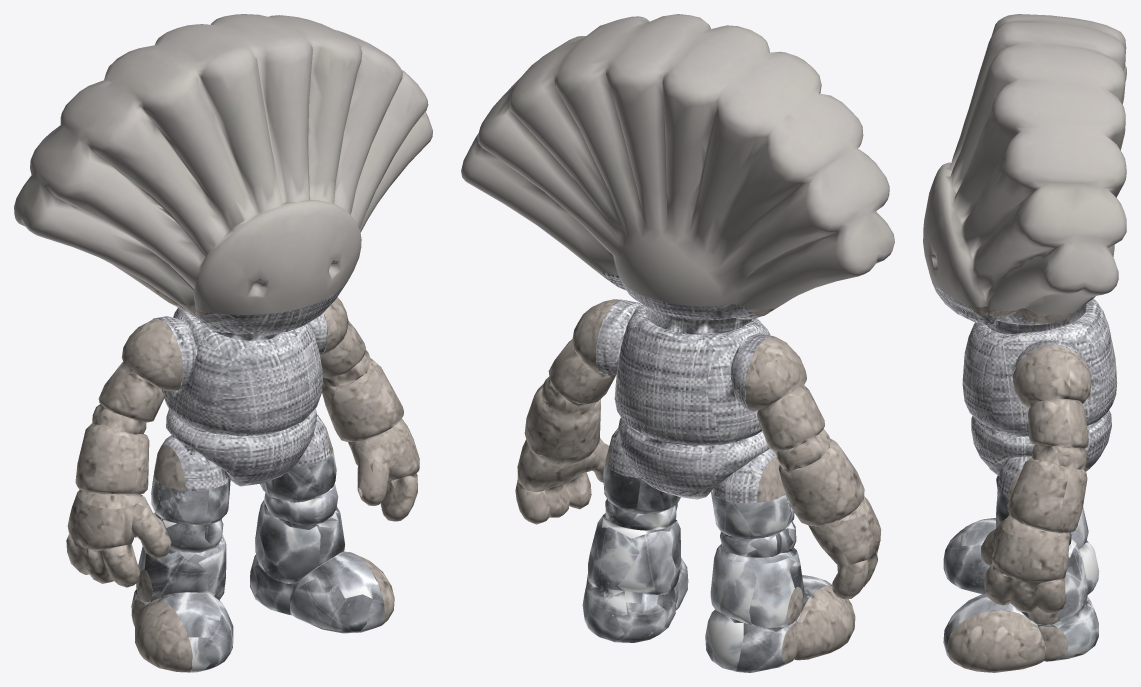
The model's file is 13-fan-split--stylized_toy_3d_model.glb.
3 renders of one model, left to right at view 1: azimuth 30°, elevation 25°; view 2: azimuth 150°, elevation 25°; view 3: azimuth 270°, elevation 25°, orthographic. The views are drawn at different scales.
Visible parts, largest first — view 1: head_mesh, arms_mesh, feet_mesh, body_mesh; view 2: head_mesh, arms_mesh, body_mesh, feet_mesh; view 3: head_mesh, arms_mesh, body_mesh, feet_mesh.
Part boxes in pixels (x1,y1,x2,y2): head_mesh: (14, 14, 432, 314); arms_mesh: (66, 285, 419, 672); feet_mesh: (131, 449, 384, 672); body_mesh: (152, 283, 346, 490); head_mesh: (461, 14, 894, 309); arms_mesh: (515, 268, 881, 663); body_mesh: (596, 272, 776, 503); feet_mesh: (582, 456, 832, 672); head_mesh: (923, 14, 1126, 314); arms_mesh: (947, 305, 1091, 672); body_mesh: (931, 279, 1117, 495); feet_mesh: (943, 474, 1099, 661).
Bounding box in the file's own units: 2.15 × 3 × 0.9576.
Materials: 4 (4 with a texture image).
